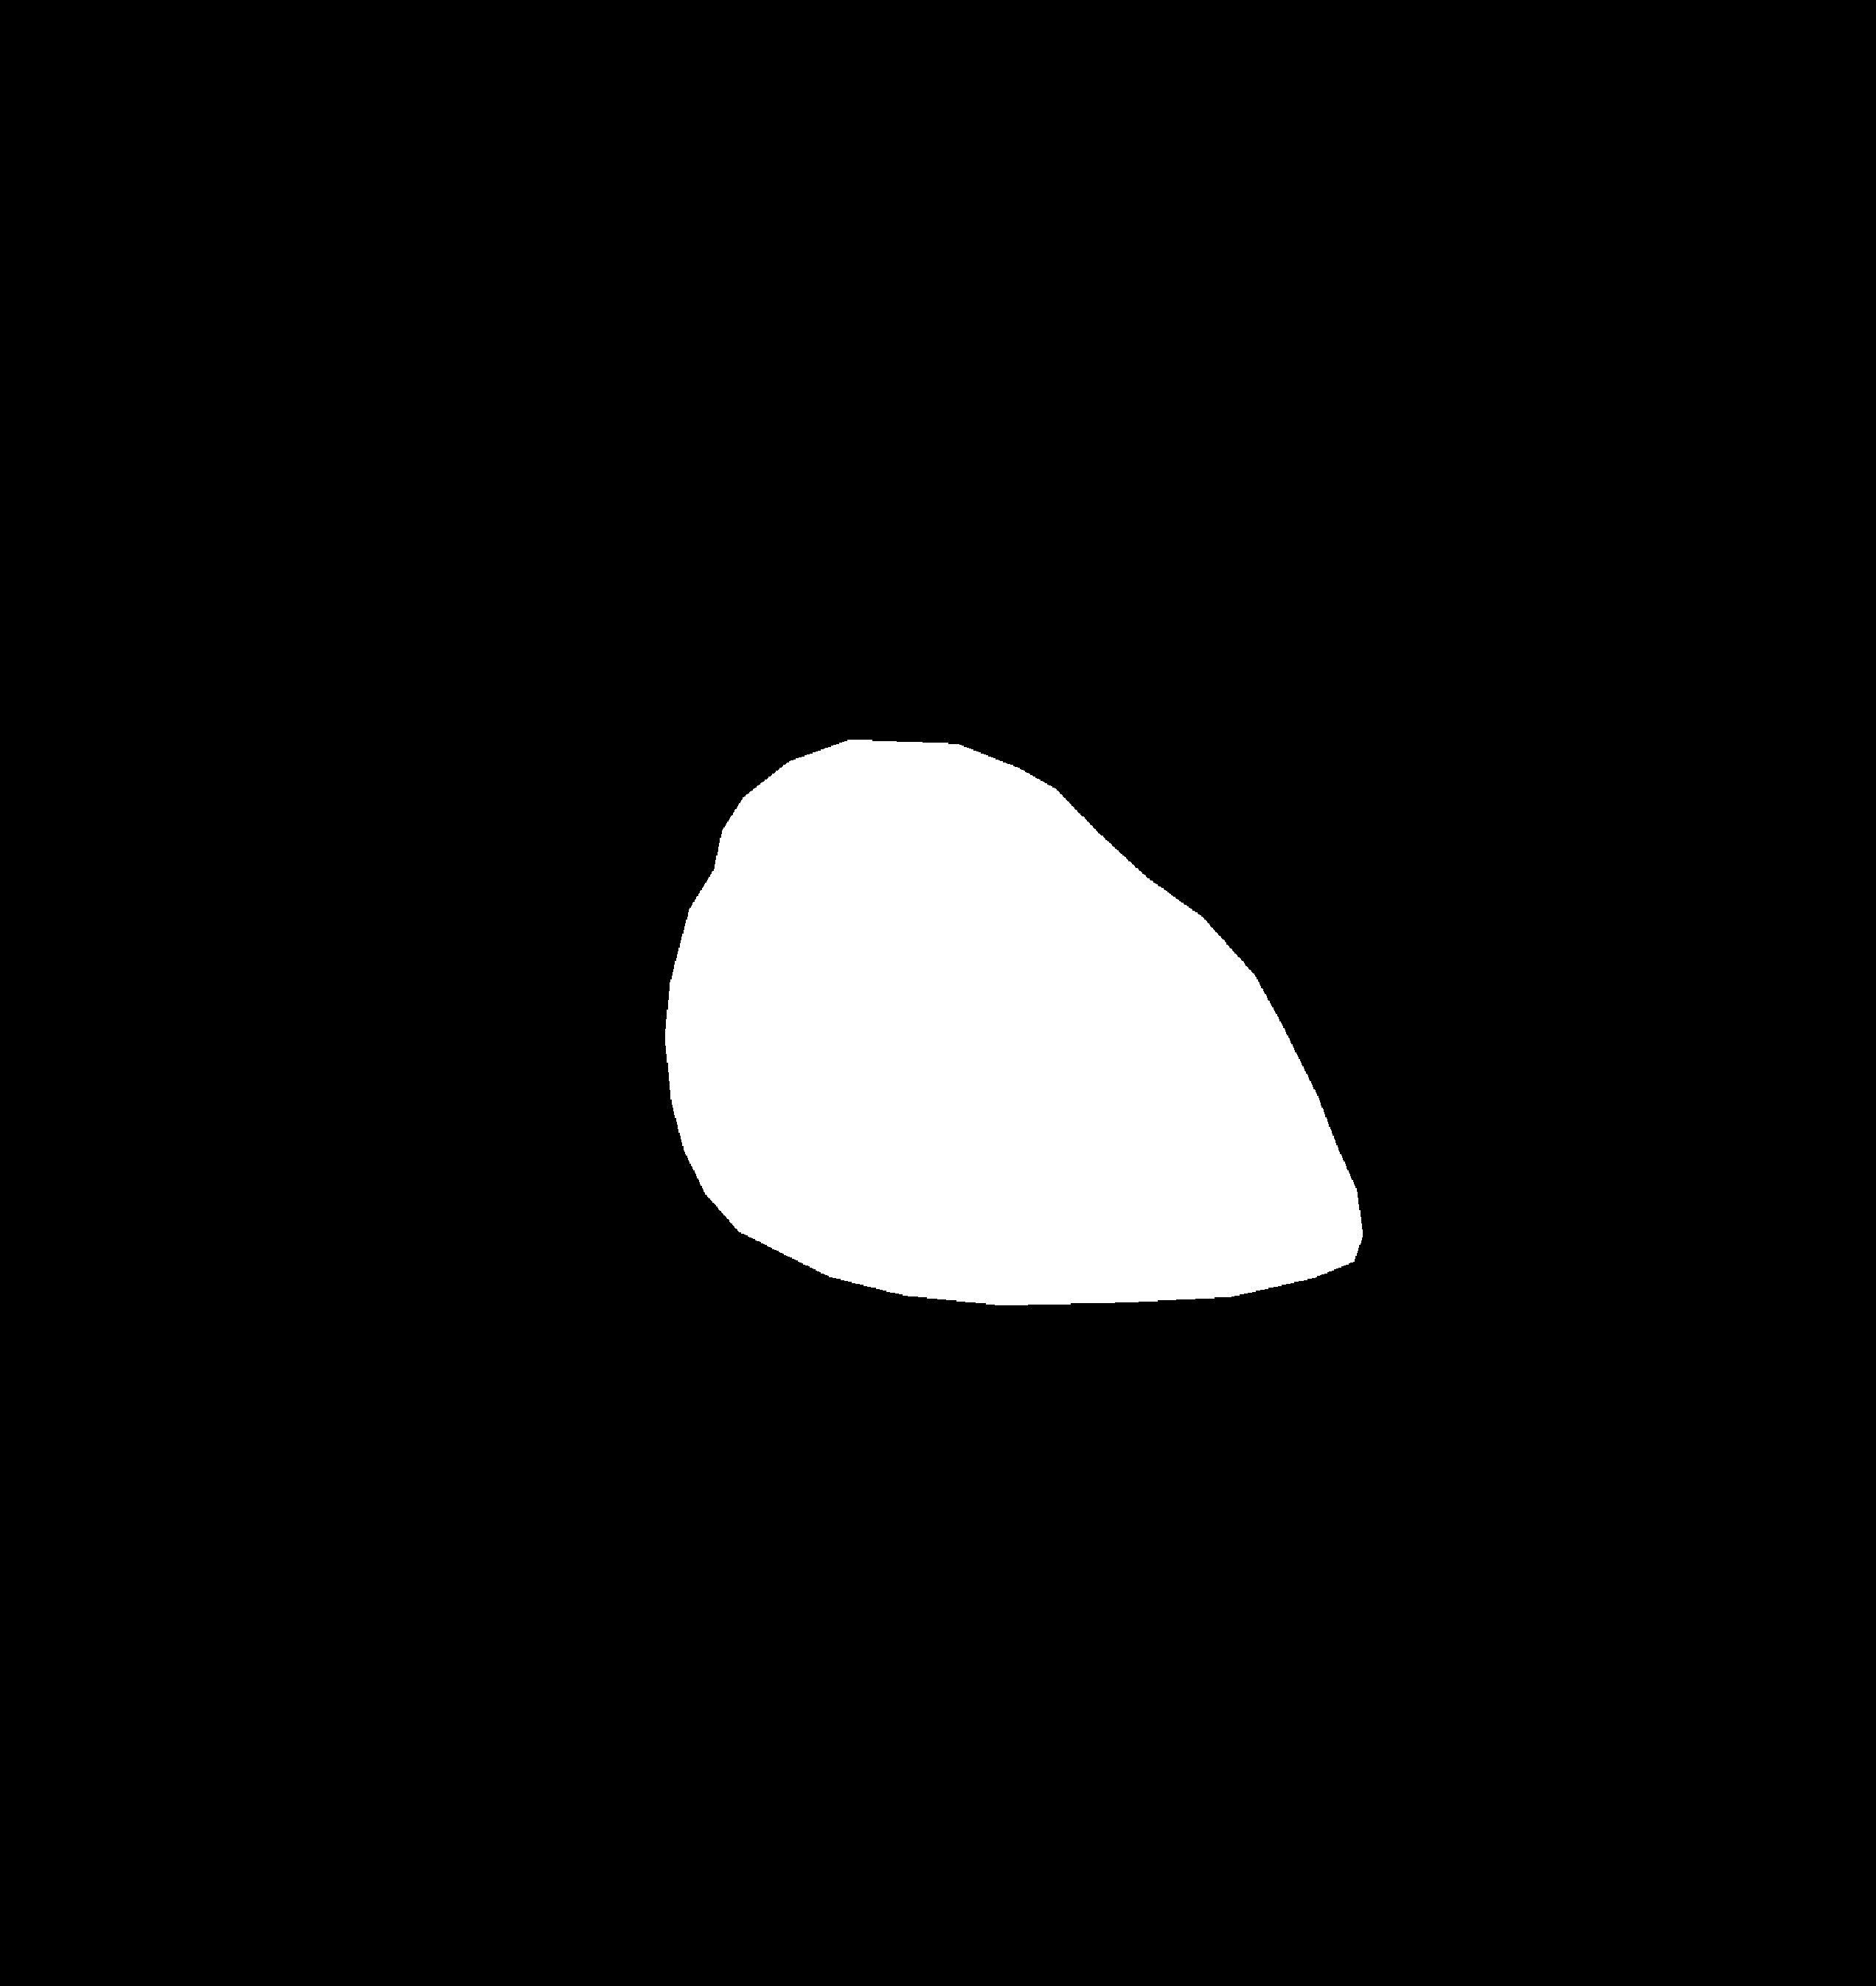heart: (663, 841, 1365, 1333)
left_lung: (201, 279, 795, 1445)
right_lung: (1014, 233, 1698, 1478)
